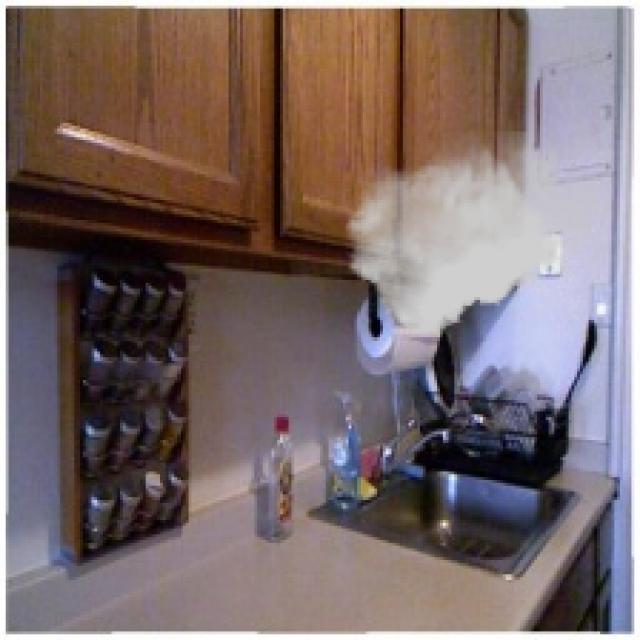smoke: (346, 132, 597, 334)
